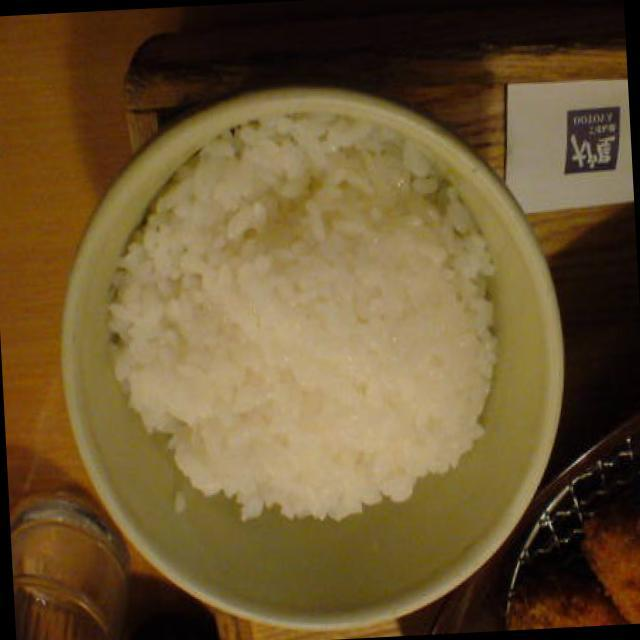Rice: (102, 101, 510, 534)
